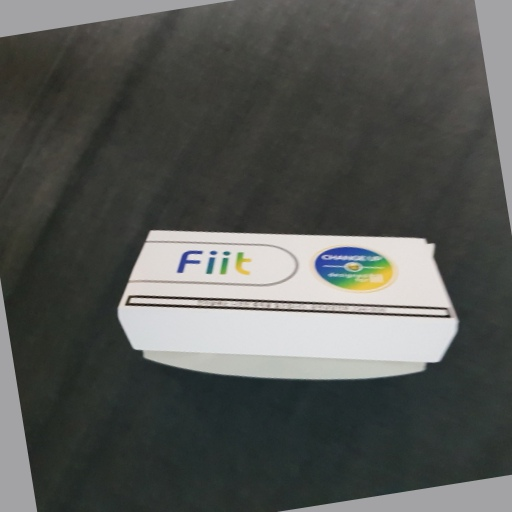Paper_0: (119, 220, 461, 388)
